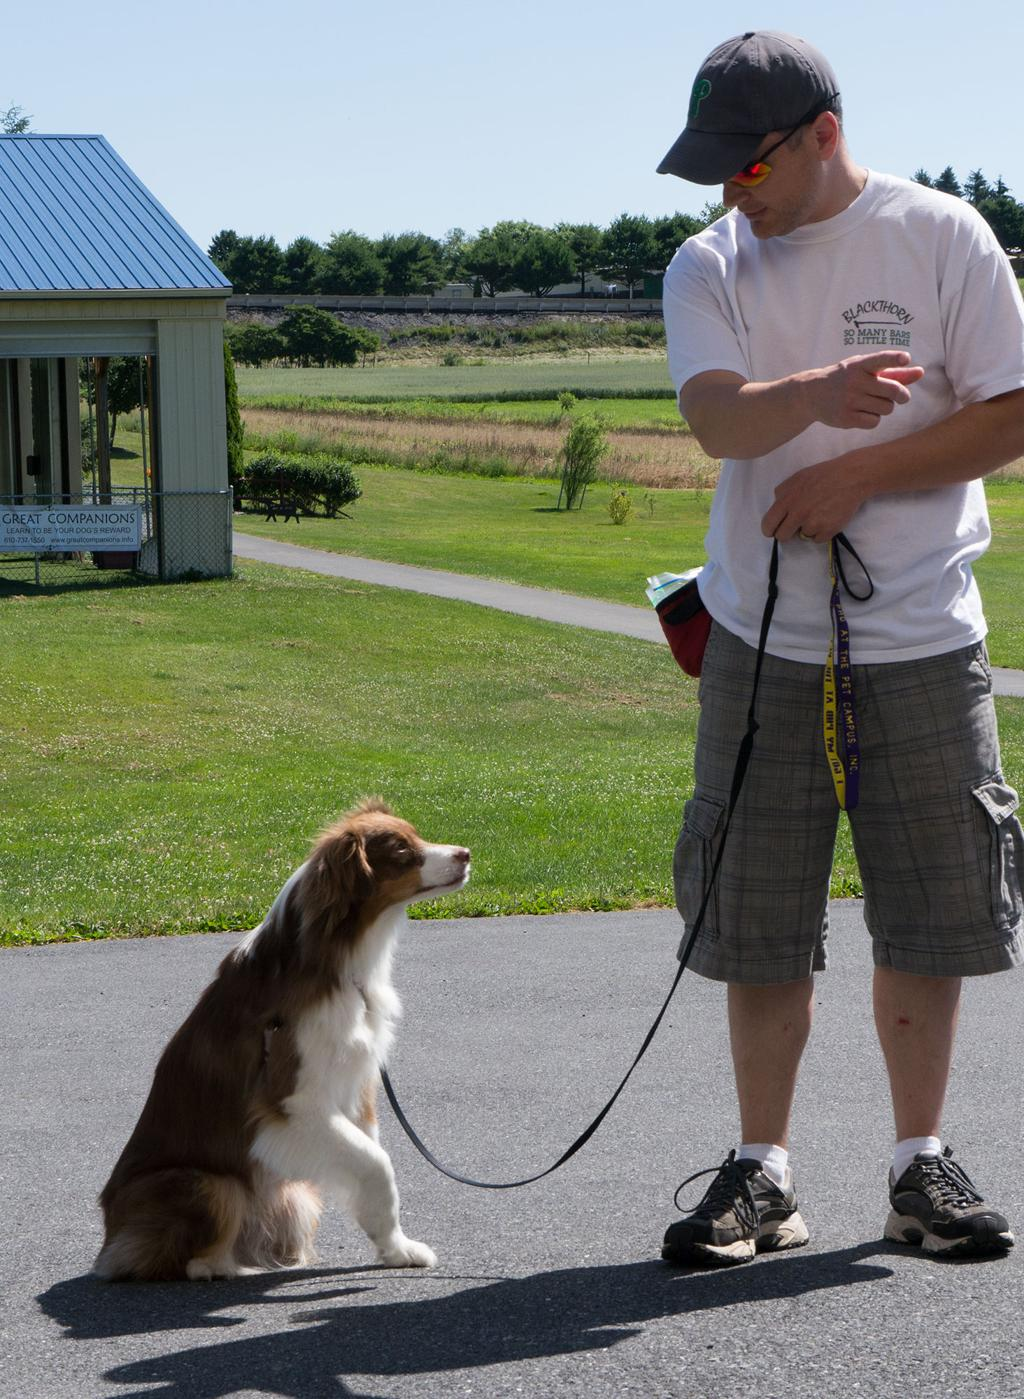face: (721, 101, 819, 240)
